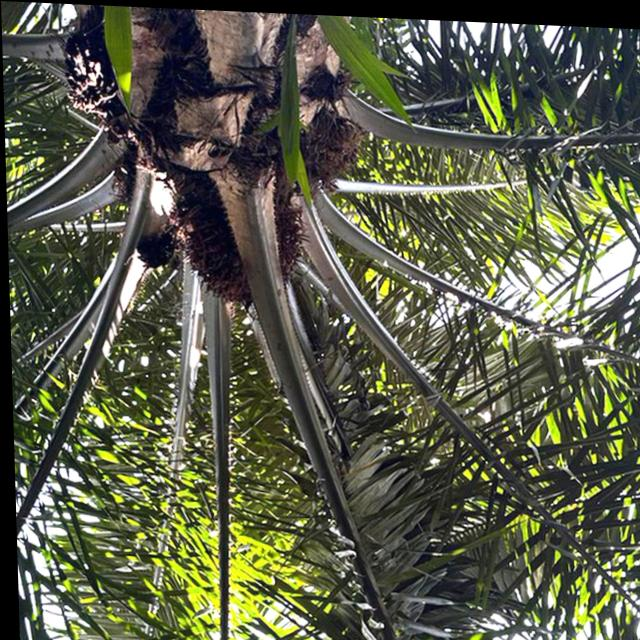ripe: (170, 165, 319, 320)
